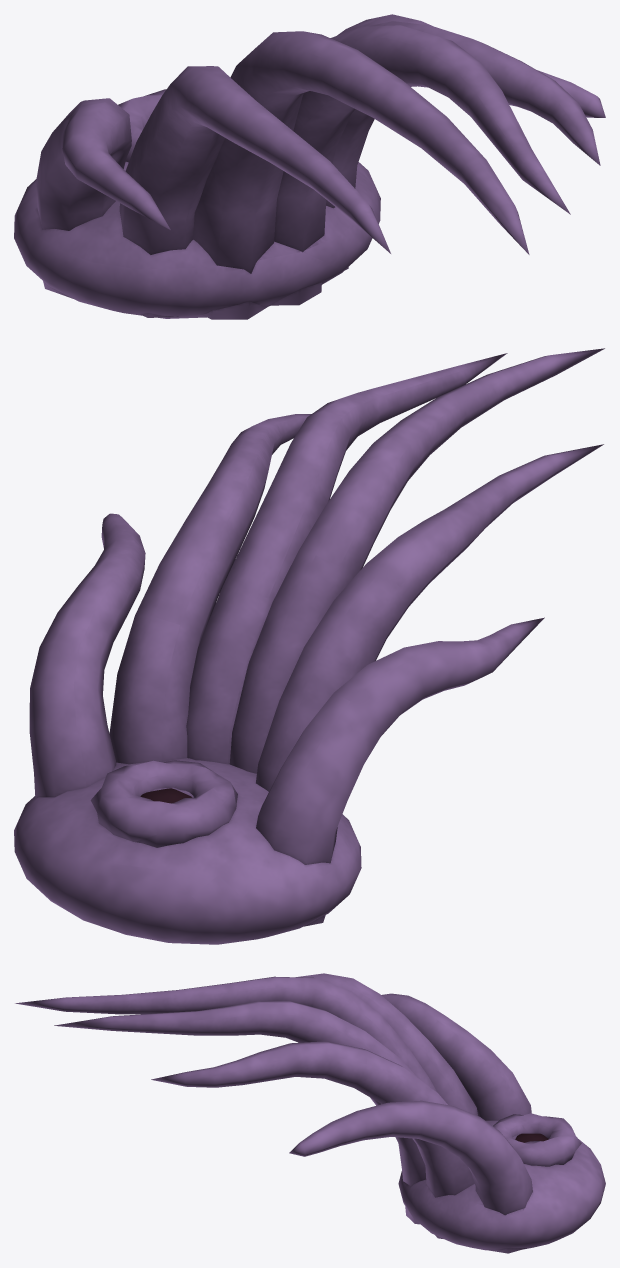
The model's file is cpart_mouth_tendrils.glb.
The picture shows the model from 3 angles, top to bottom: view 1: azimuth 30°, elevation 25°; view 2: azimuth 150°, elevation 25°; view 3: azimuth 270°, elevation 25°; orthographic projection. The views are drawn at different scales.
Parts seen in each view (by area): view 1: MouthTendrils; view 2: MouthTendrils; view 3: MouthTendrils.
Boxes of the visible parts, x1=… form: MouthTendrils: x1=14, y1=14, x2=605, y2=319; MouthTendrils: x1=14, y1=348, x2=604, y2=944; MouthTendrils: x1=15, y1=973, x2=605, y2=1253.
Bounding box in the file's own units: 0.1186 × 0.092 × 0.2054.
Materials: 2 (2 with a texture image).
